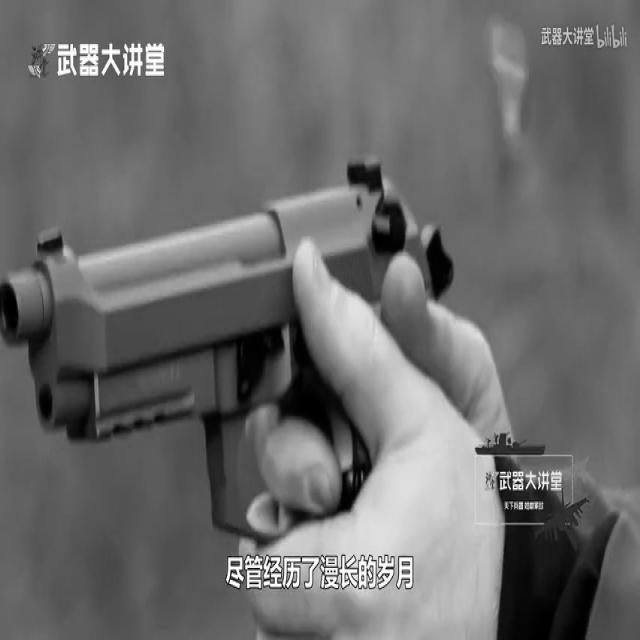Hand-Gun: (7, 39, 506, 640)
